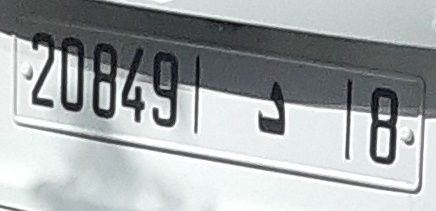0: (59, 33, 84, 114)
2: (27, 25, 55, 112)
4: (118, 43, 147, 125)
8: (364, 82, 402, 169), (89, 41, 120, 119)
9: (149, 50, 183, 128)
d: (236, 75, 300, 142)
